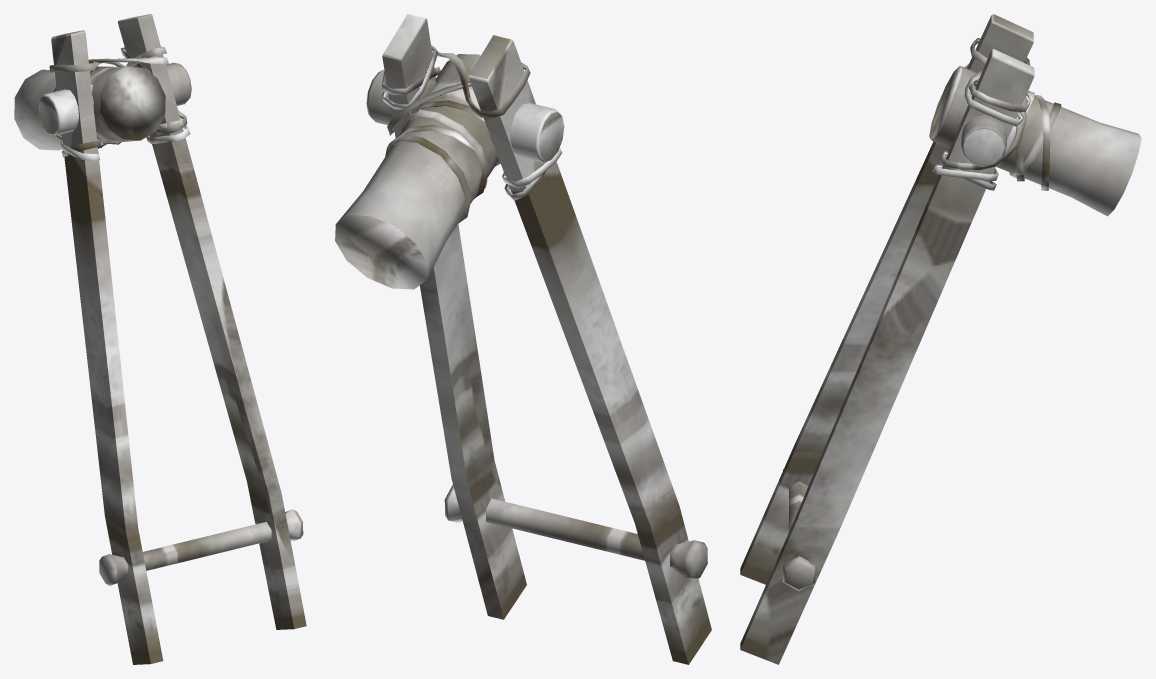
The model's file is weapon-base.glb.
3 renders of one model, left to right at view 1: azimuth 30°, elevation 25°; view 2: azimuth 150°, elevation 25°; view 3: azimuth 270°, elevation 25°, orthographic. The views are drawn at different scales.
Size of the model in its own units: 1.74 by 4.76 by 2.94.
Materials: 1 (1 with a texture image).
